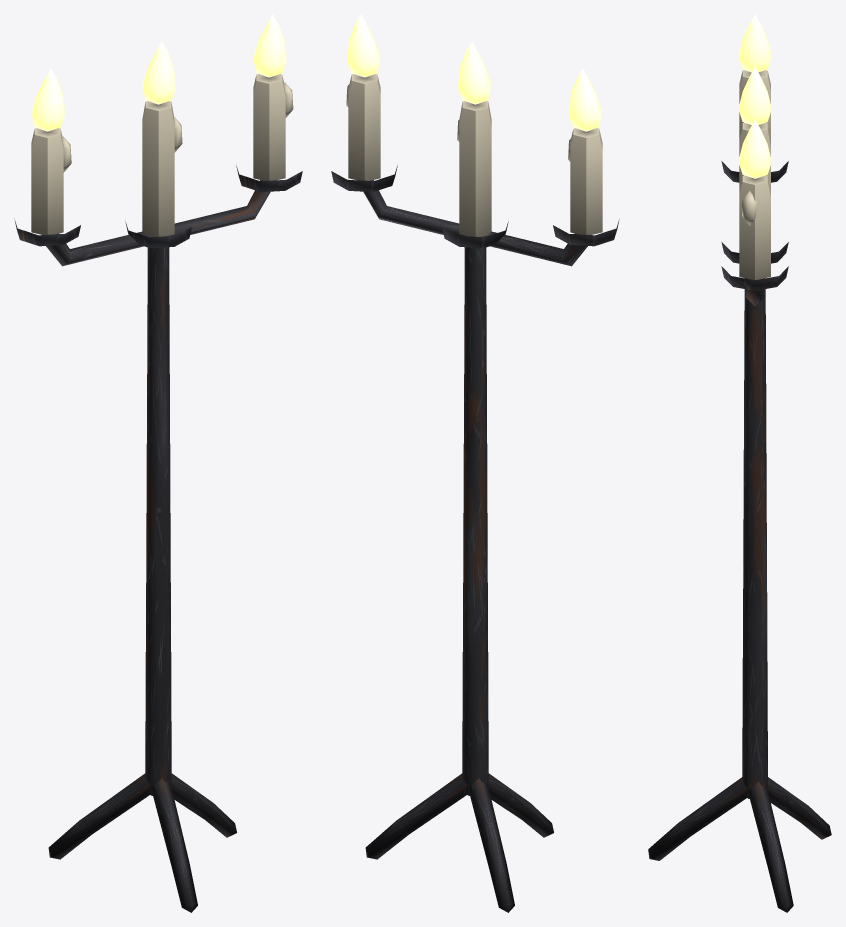
File: interior_candle_stand.glb
The picture shows the model from 3 angles, left to right: view 1: azimuth 30°, elevation 25°; view 2: azimuth 150°, elevation 25°; view 3: azimuth 270°, elevation 25°; orthographic projection. The views are drawn at different scales.
Visible parts, largest first — view 1: interior_candle_stand; view 2: interior_candle_stand; view 3: interior_candle_stand.
Boxes of the visible parts, x1,y1,x2,y2 form: interior_candle_stand: [14, 14, 302, 912]; interior_candle_stand: [331, 14, 619, 912]; interior_candle_stand: [648, 14, 831, 912].
Bounding box in the file's own units: 0.61 × 1.71 × 0.3537.
3 materials, 1 textured.
